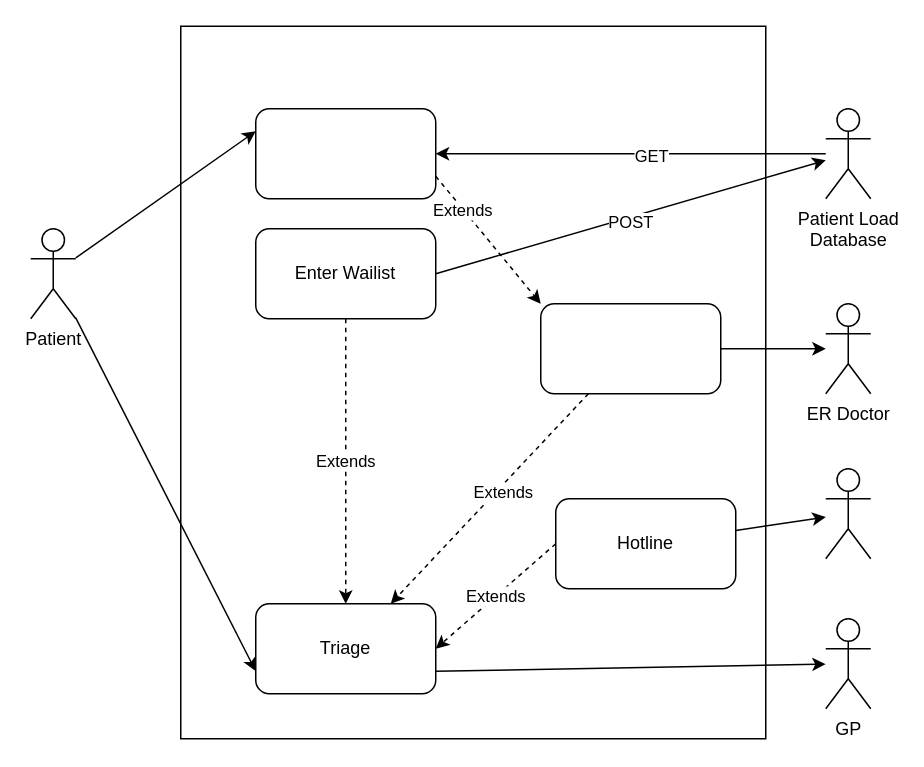
This 924x767 diagram has some shape labels left out. The shapes that lost their labels are listed below. From the top down, each one's box as (x1, y1, x2, y2) in pixels, then its label:
(254, 107, 436, 199): View wait-time
(539, 302, 721, 394): ER Room
(824, 467, 871, 559): Nurse
